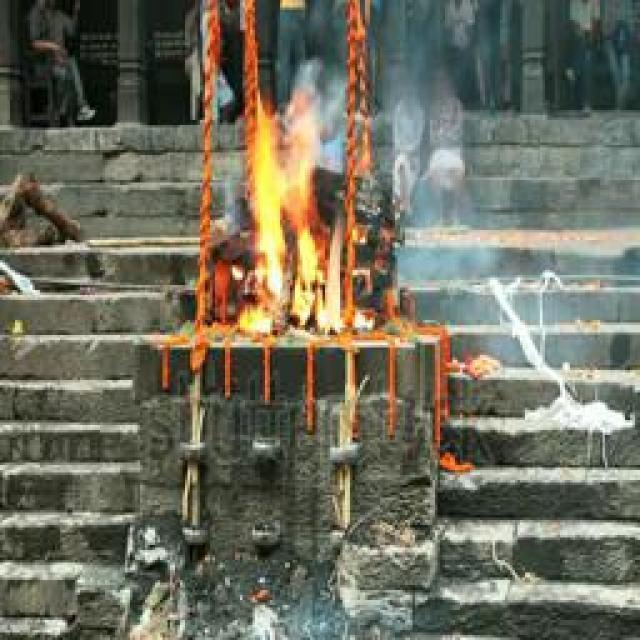Fire: (247, 97, 352, 337)
